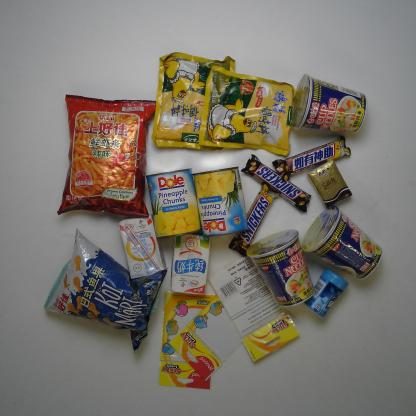Canned Food: (145, 168, 201, 238), (193, 166, 245, 236)
Chocolate: (241, 154, 311, 212), (229, 182, 281, 257), (271, 136, 352, 183)
Gum: (304, 268, 348, 318)
Instant Noodles: (302, 206, 382, 280), (247, 229, 315, 307), (290, 74, 367, 132)
Milk: (120, 215, 166, 280), (172, 231, 211, 296)
Puffed Food: (43, 227, 168, 352), (56, 94, 158, 220)
Seasoner: (199, 64, 296, 158), (152, 52, 236, 150)
Stationery: (208, 251, 299, 364), (168, 278, 264, 382), (159, 289, 217, 389)
Tissue: (308, 159, 352, 208)
